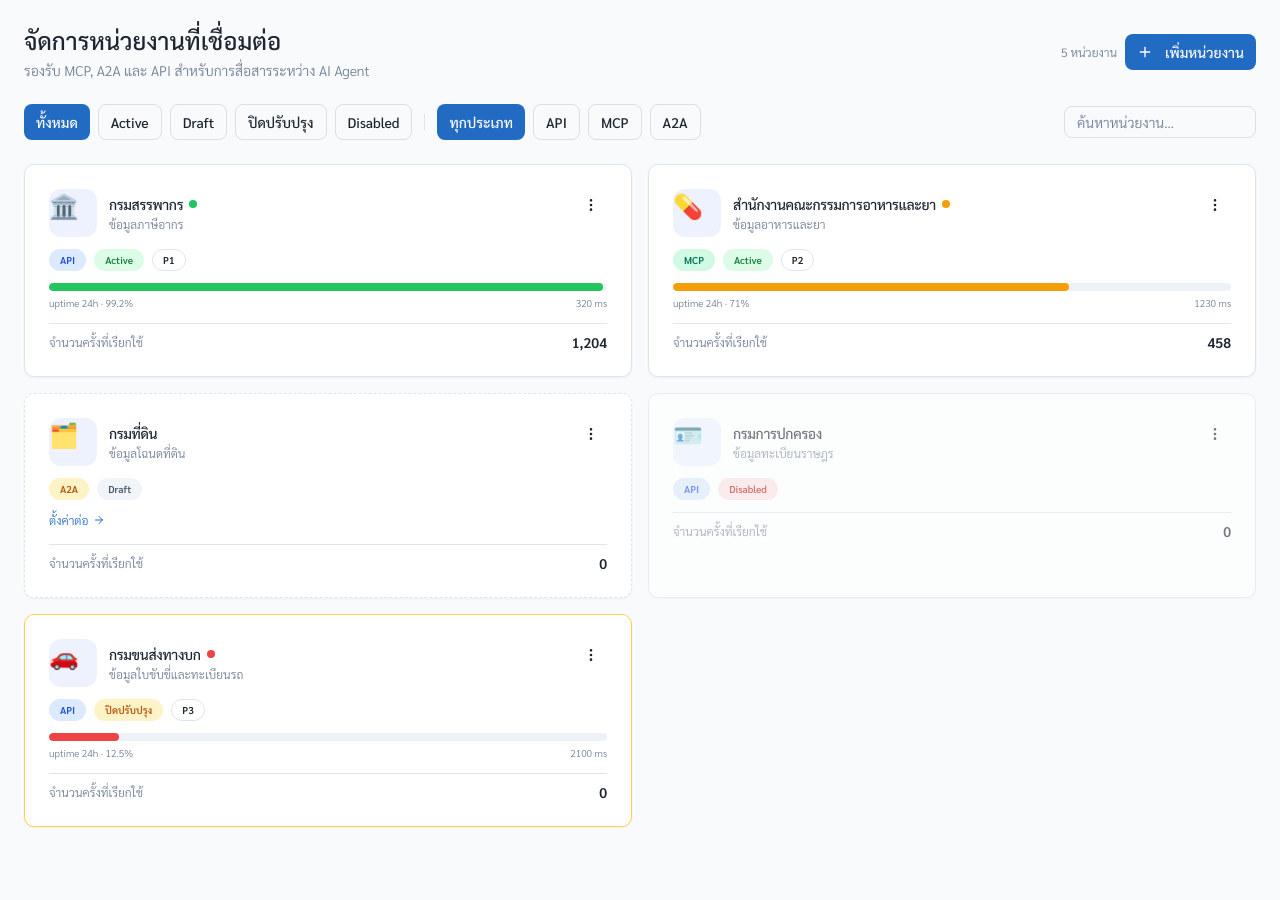
Scenario: AgenciesPage › filters by search text
Expected: the heading "กรมสรรพากร" is shown, [109,194,197,214]
Type "ขนส่ง" into the field with placeholder "ค้นหาหน่วยงาน…" at (1160,122), box [1064,106,1256,138]
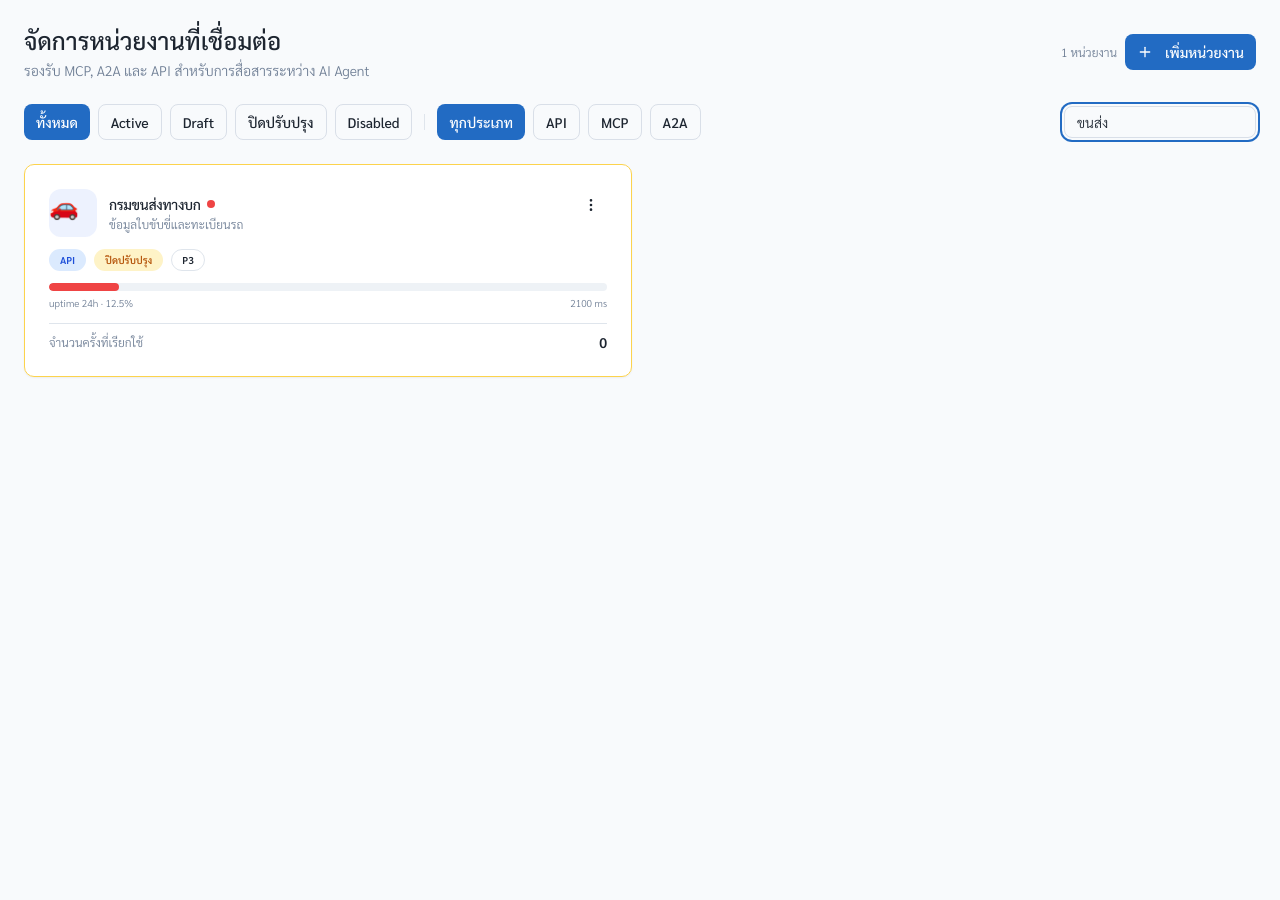
Expected: the heading "กรมขนส่งทางบก" is shown, [109,195,214,213]
Expected: the heading "กรมสรรพากร" is gone
